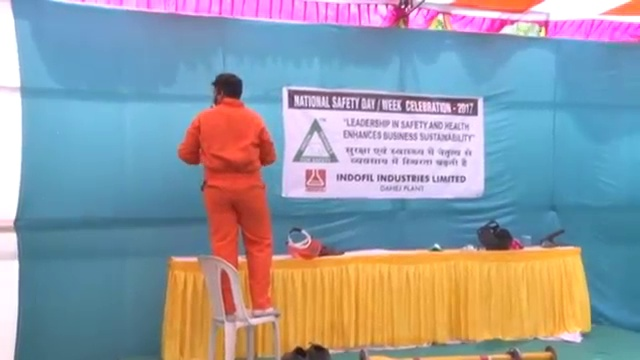helmet_off: (210, 73, 244, 107)
person: (174, 74, 284, 324)
